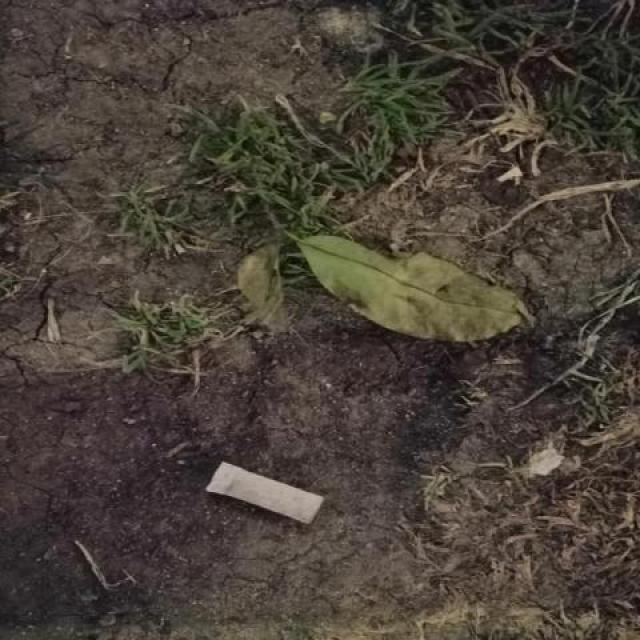non-organic waste: (201, 459, 331, 528)
